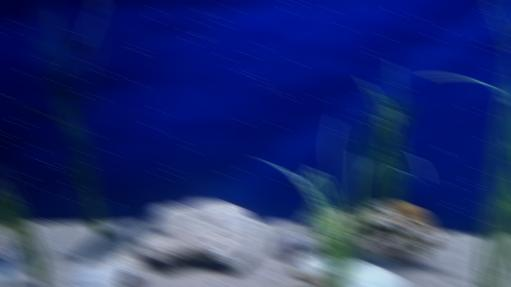Fish: (75, 211, 170, 264), (0, 248, 29, 282)
